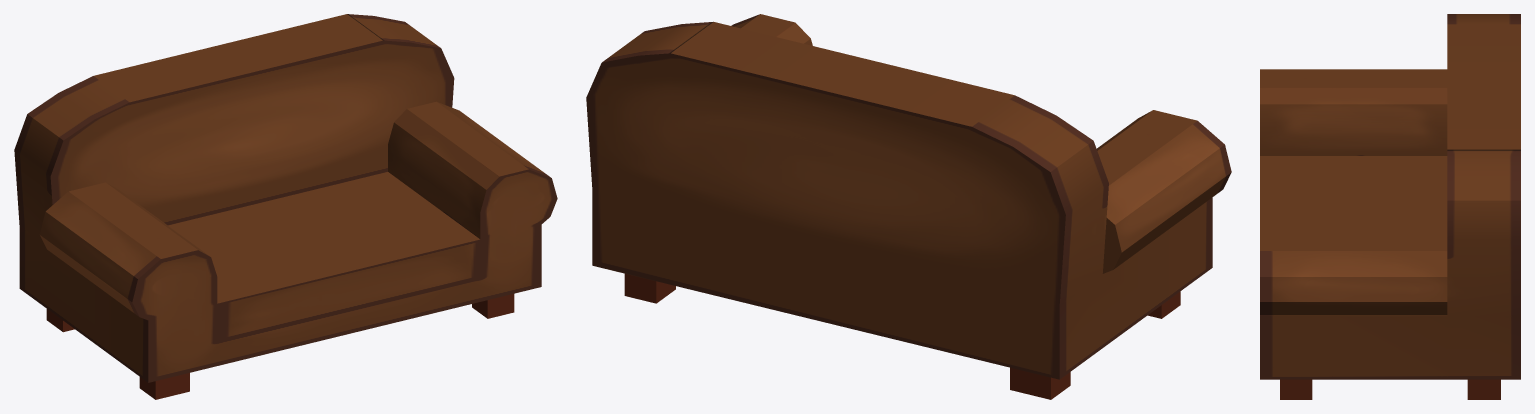
Rendered from couch.fbx.
3 views of the same model, side by side, from view 1: azimuth 30°, elevation 25°; view 2: azimuth 150°, elevation 25°; view 3: azimuth 270°, elevation 25° (orthographic). The views are drawn at different scales.
Parts seen in each view (by area): view 1: pCube1; view 2: pCube1; view 3: pCube1.
Part boxes in pixels (box(x1,y1,x2,y2)): pCube1: box(14, 14, 557, 399); pCube1: box(586, 14, 1231, 399); pCube1: box(1260, 14, 1520, 399).
Size of the model in its own units: 44.57 by 22.36 by 23.37.
Materials: 1 (1 with a texture image).
